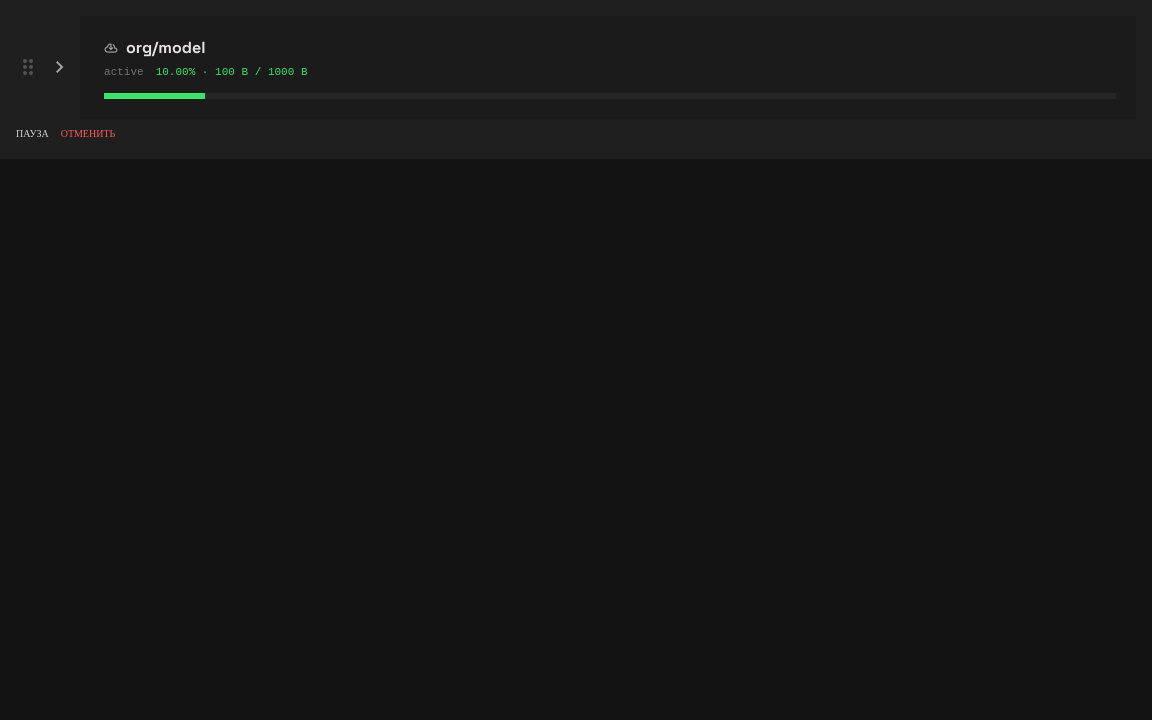
Test: DownloadList — status icon, drag handle, description toggle (download-tile-icons-handle-collapse) › collapses the description by default and toggles it with the chevron
This screenshot has width=1152, height=720.
Click the button with test id "download-description-toggle" at (60, 67), box [48,55,72,79]
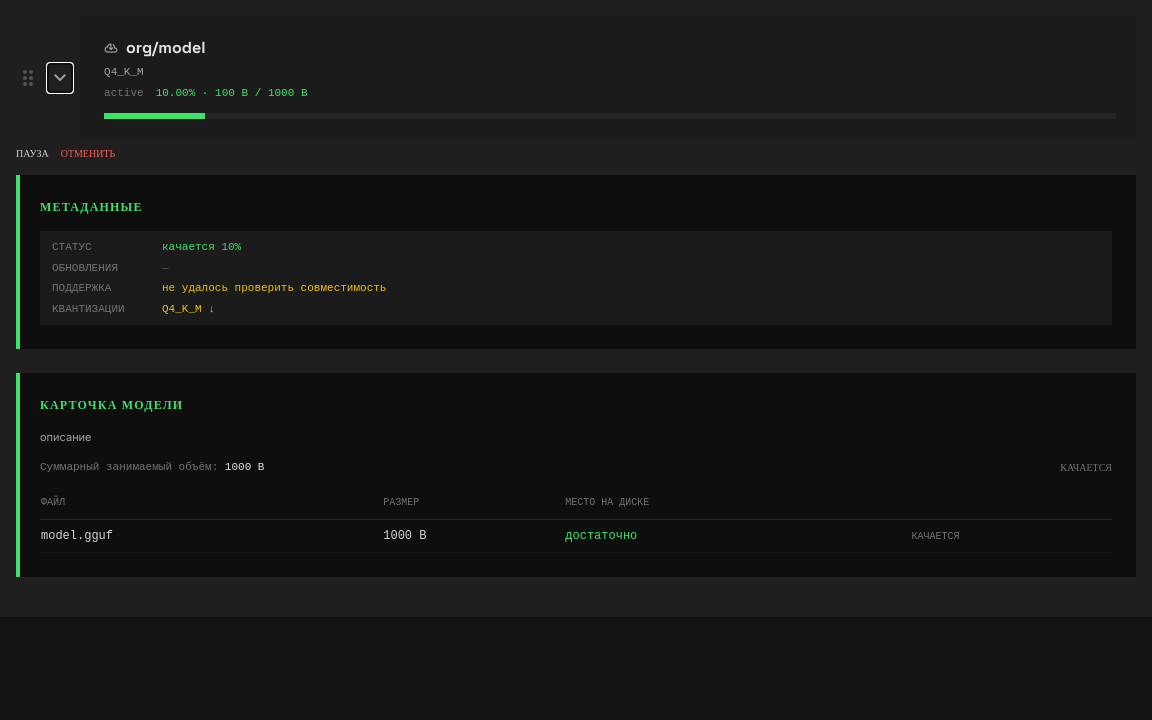
Expected: the element with test id "model-card" is shown, [16,373,1136,577]
Expected: the button with test id "download-description-toggle" is expanded
Click the button with test id "download-description-toggle" at (60, 78), box [48,66,72,90]
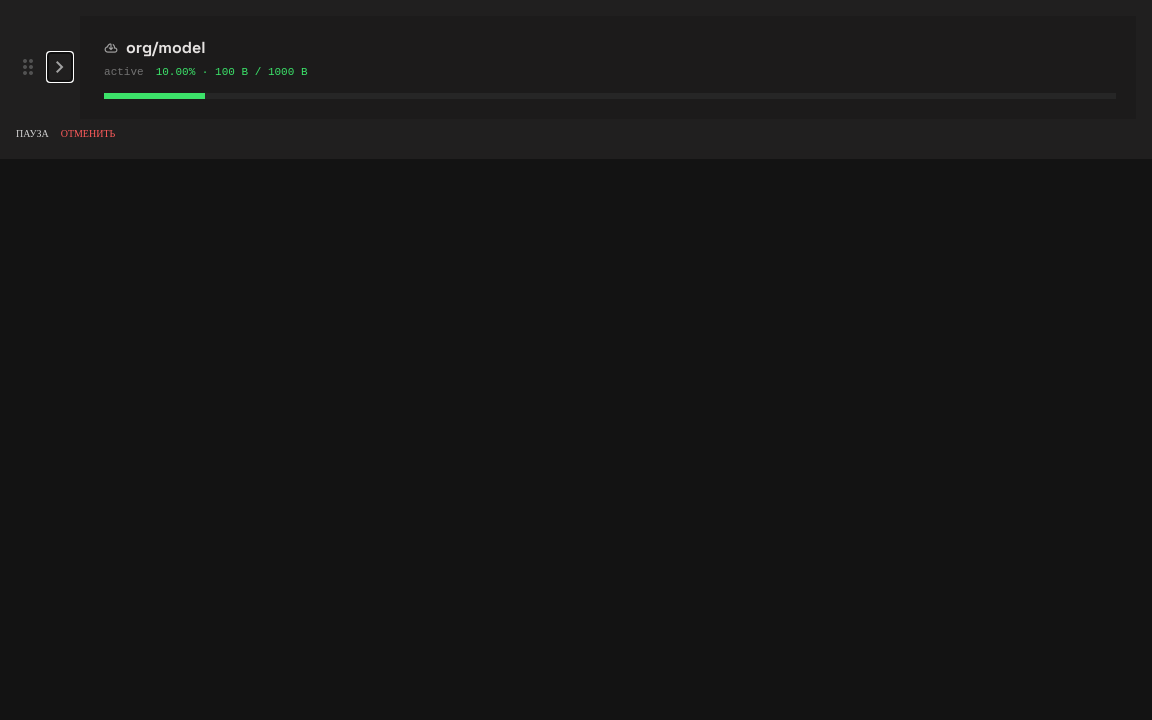
Expected: the element with test id "model-card" is gone
